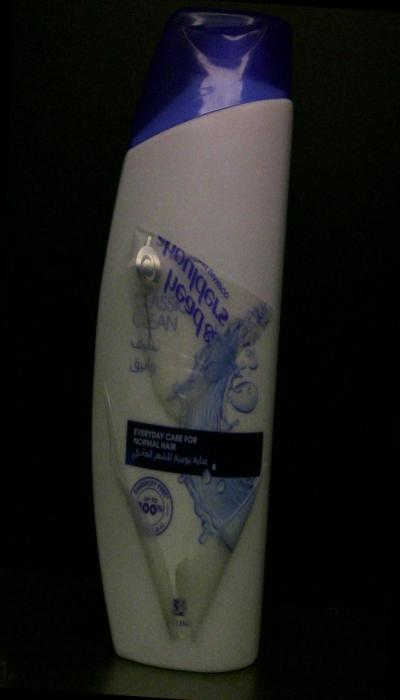adhesion_unacc: (124, 224, 278, 395), (91, 381, 185, 644), (172, 465, 266, 649)
